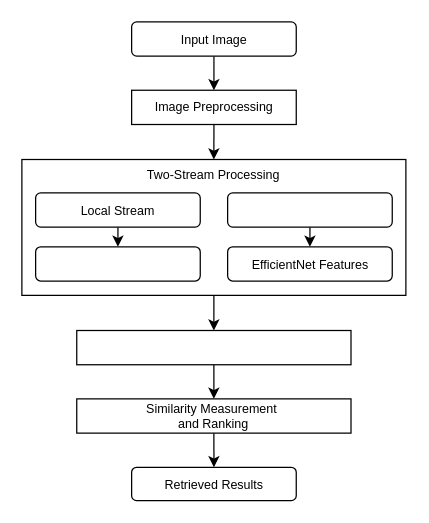
This 429x523 diagram has some shape labels left out. The centre of each missing label's shape, as x and y in pixels:
"Feature Fusion Module" belongs at [213,347].
"HOG Descriptor" belongs at [117,263].
"Semantic Stream" belongs at [309,209].
